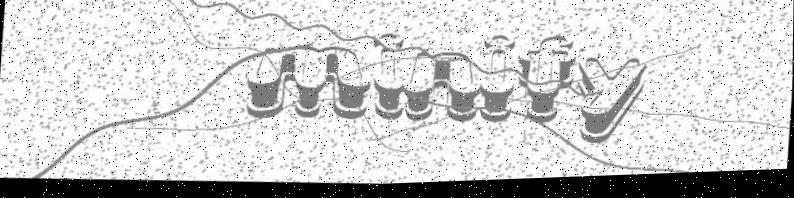f: (520, 29, 577, 140)
i: (480, 32, 520, 132), (370, 34, 408, 128)
m: (246, 35, 376, 131)
n: (408, 47, 485, 135)
y: (573, 53, 647, 151)
